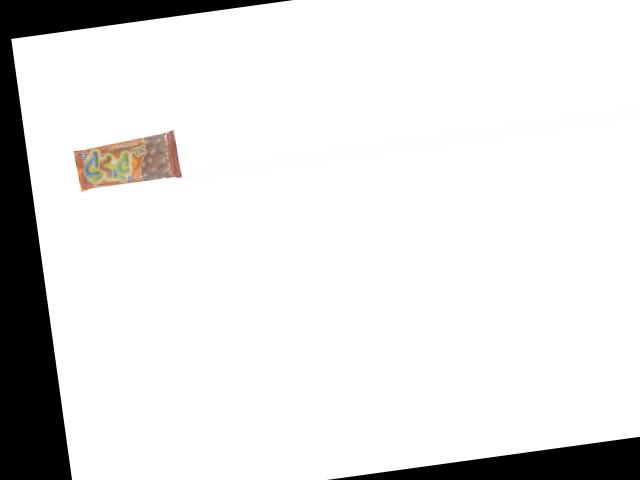chocolate: (72, 131, 181, 191)
